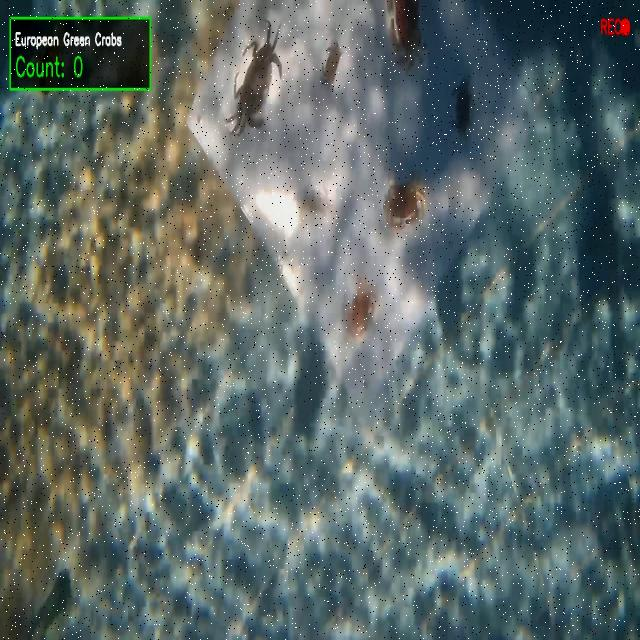European_Green_Crab: (216, 10, 293, 150), (447, 73, 477, 147), (293, 173, 332, 228)
